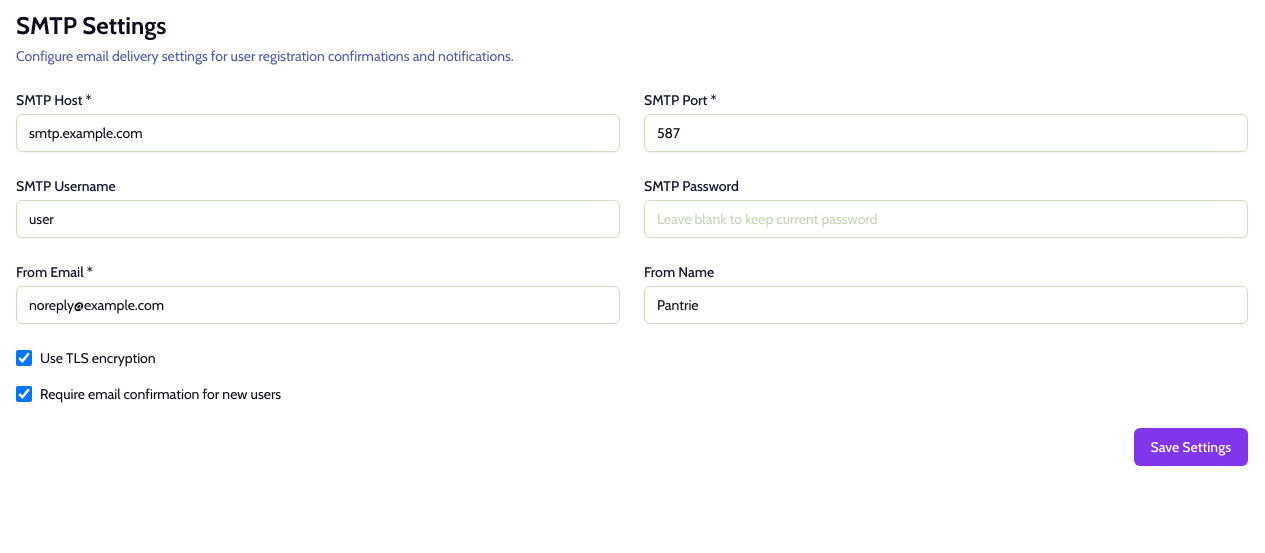
Test: SiteSettings (SMTP) › surfaces a save error (detail + fallback)
expect the field showing "smtp.example.com" is shown: met, box [16,114,620,152]
Click the button "Save Settings": (1191, 447) [1134,428,1248,466]
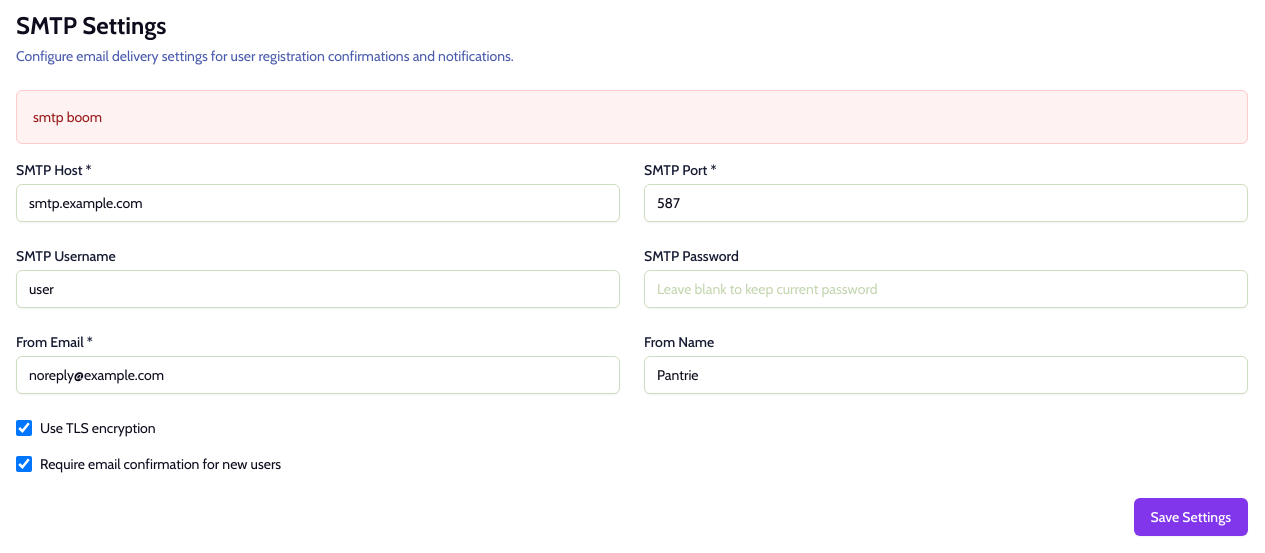
expect the text "smtp boom" is shown: met, box [33,108,102,126]
Click the button "Save Settings": (1191, 517) [1134,498,1248,536]
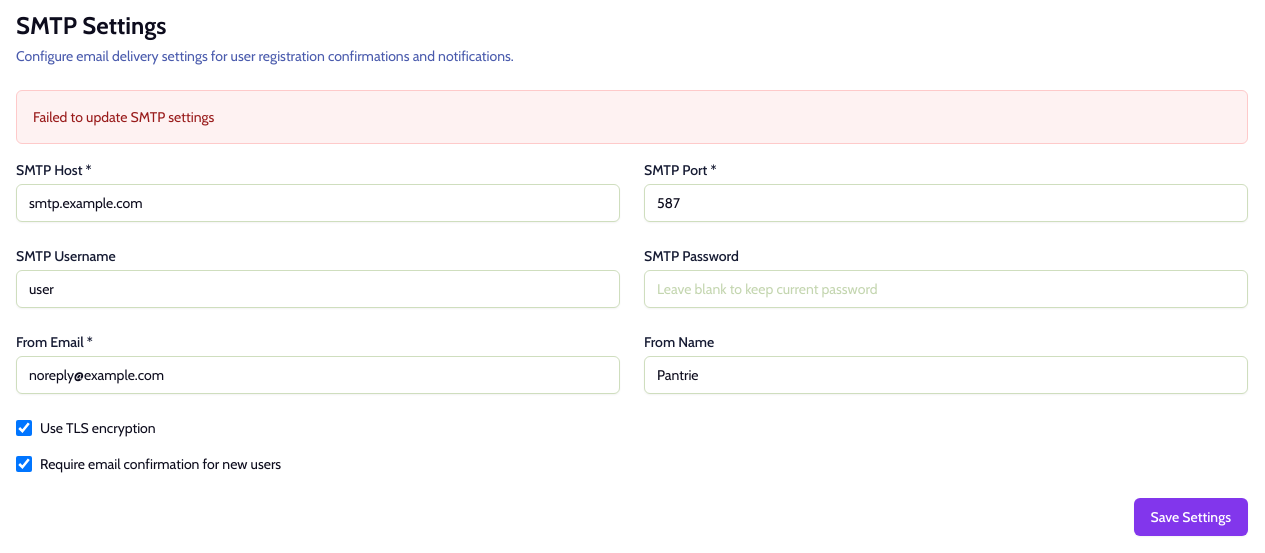
expect the text "Failed to update SMTP settings" is shown: met, box [33,108,214,126]
